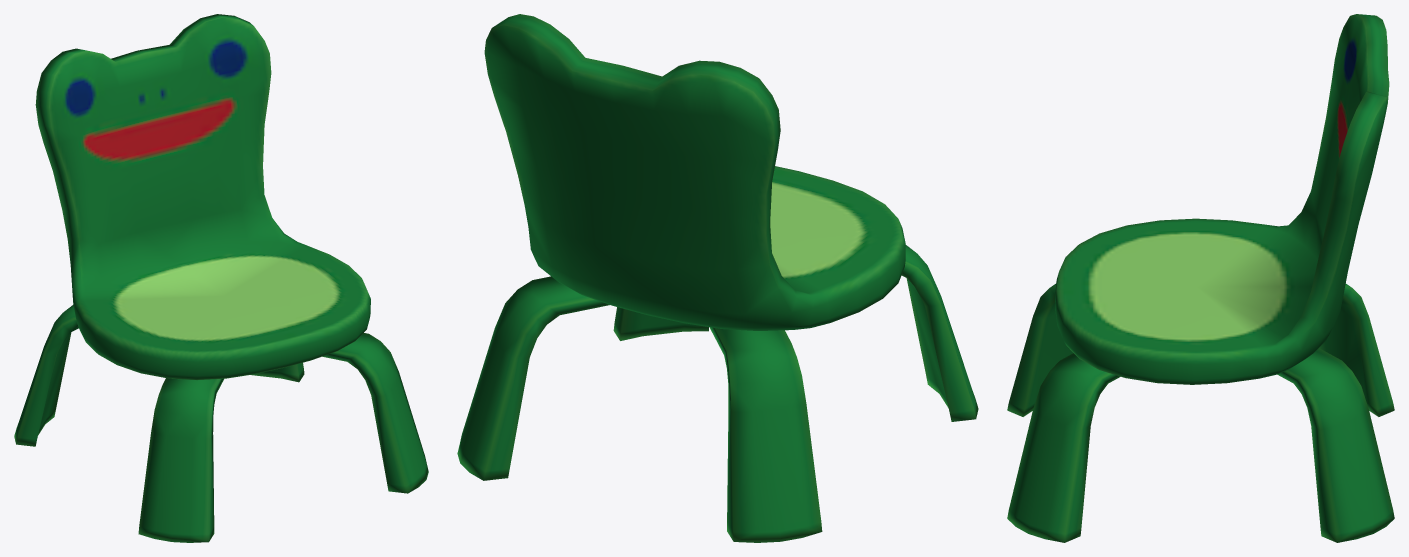
The model's file is frog.glb.
3 renders of one model, left to right at view 1: azimuth 30°, elevation 25°; view 2: azimuth 150°, elevation 25°; view 3: azimuth 270°, elevation 25°, orthographic. The views are drawn at different scales.
Parts seen in each view (by area): view 1: mReBody; view 2: mReBody; view 3: mReBody.
Part boxes in pixels (x1,y1,x2,y2): mReBody: (14,14,428,542); mReBody: (457,14,978,542); mReBody: (1007,14,1394,542).
Bounding box in the file's own units: 7.09 × 8.58 × 7.41.
Materials: 1 (1 with a texture image).
